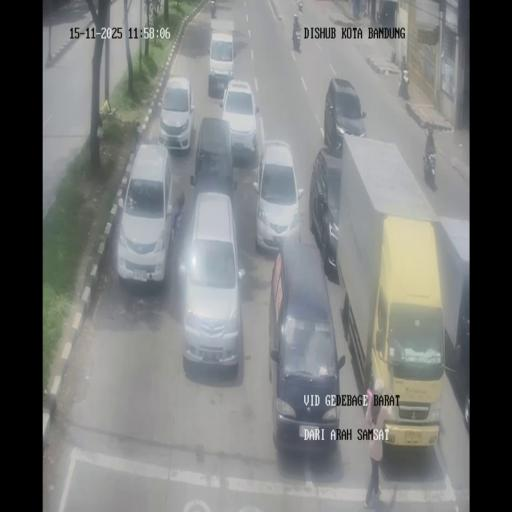3: (334, 137, 457, 447), (454, 270, 470, 436)
car: (269, 242, 340, 454), (180, 192, 245, 371), (117, 141, 175, 286), (254, 137, 302, 254), (309, 148, 341, 278), (219, 79, 260, 163), (323, 77, 366, 155), (158, 76, 195, 153), (208, 32, 235, 96)
truck: (423, 148, 436, 187), (398, 58, 410, 100), (292, 27, 302, 52), (210, 0, 217, 18), (298, 0, 303, 12)
